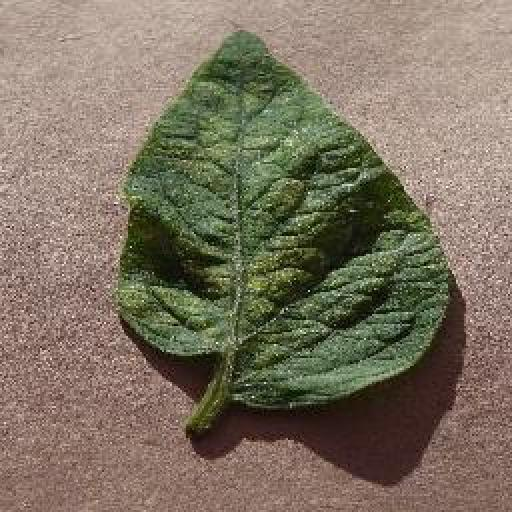Spider Mites: (118, 23, 449, 412)
